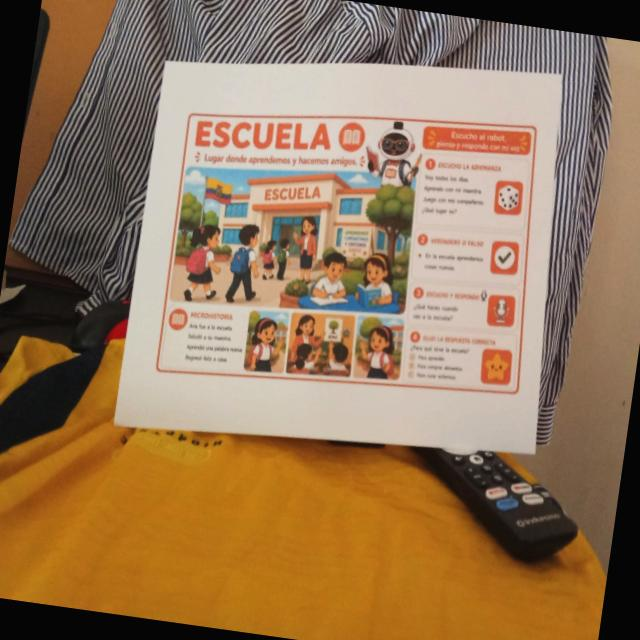escuela: (148, 74, 560, 427)
